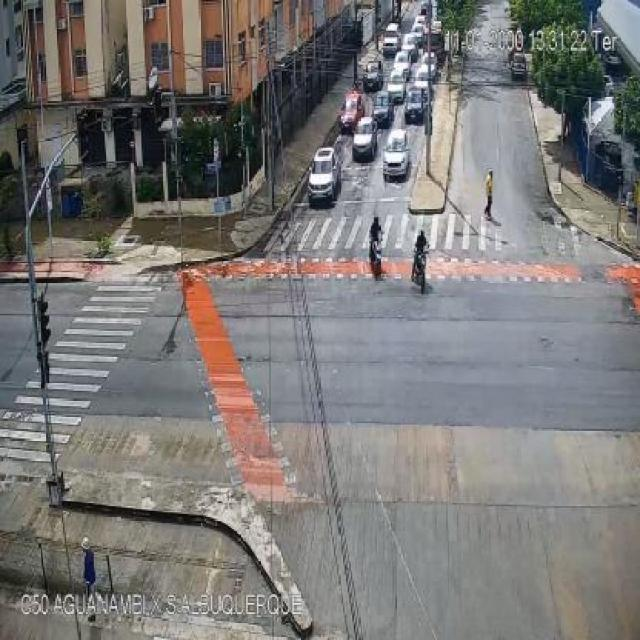Car: (306, 147, 342, 202), (382, 129, 410, 177), (352, 116, 379, 160), (337, 92, 362, 135), (404, 87, 428, 123), (371, 92, 393, 127), (386, 72, 408, 104), (382, 23, 402, 55), (420, 51, 440, 82), (363, 62, 383, 92), (392, 50, 414, 76), (509, 52, 527, 81), (400, 33, 420, 58)
Cycle: (410, 250, 431, 294), (365, 232, 384, 276)
